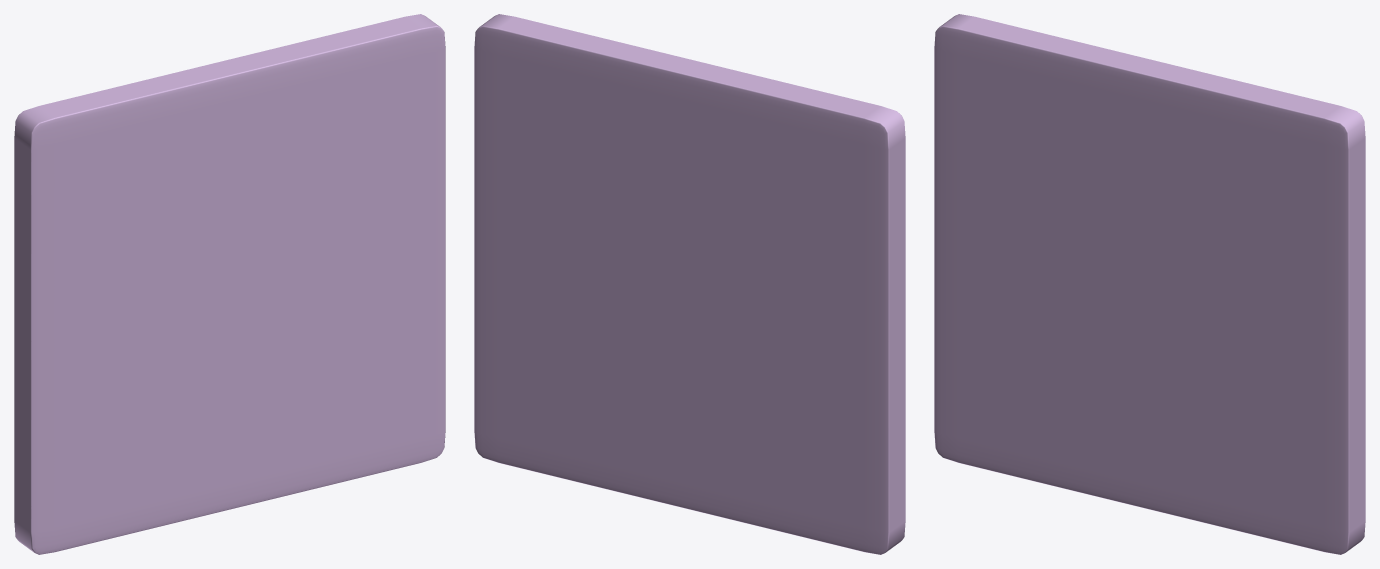
The model's file is BevelledTray.gltf.
3 views of the same model, side by side, from view 1: azimuth 30°, elevation 25°; view 2: azimuth 150°, elevation 25°; view 3: azimuth 330°, elevation 25° (orthographic).
Parts seen in each view (by area): view 1: BevelledTray; view 2: BevelledTray; view 3: BevelledTray.
Boxes of the visible parts, x1=… form: BevelledTray: x1=14, y1=14, x2=445, y2=554; BevelledTray: x1=474, y1=14, x2=905, y2=554; BevelledTray: x1=934, y1=14, x2=1365, y2=554.
Size of the model in its own units: 8 by 8 by 0.6.
